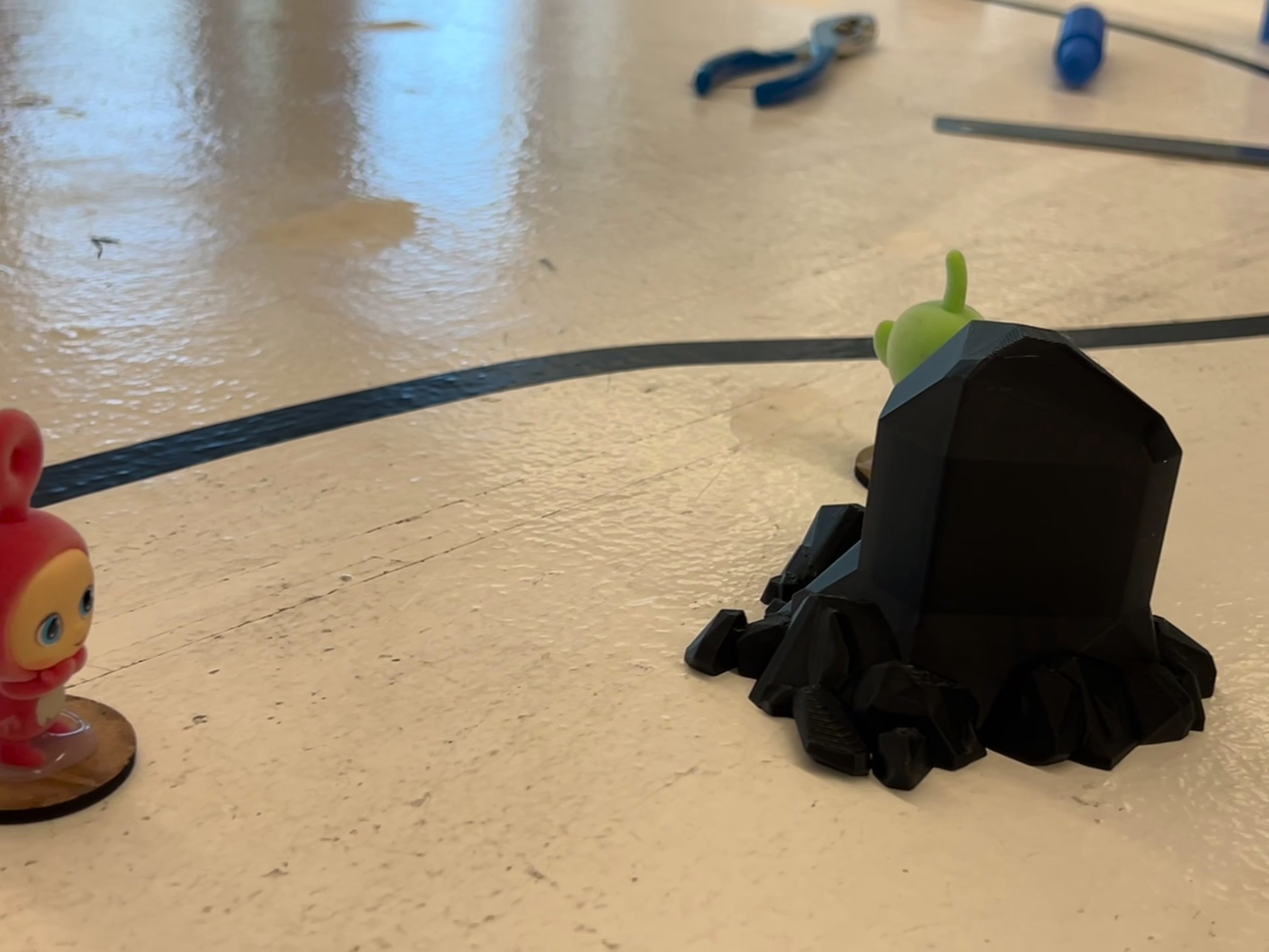teletubby: (0, 409, 95, 772), (873, 250, 983, 384)
